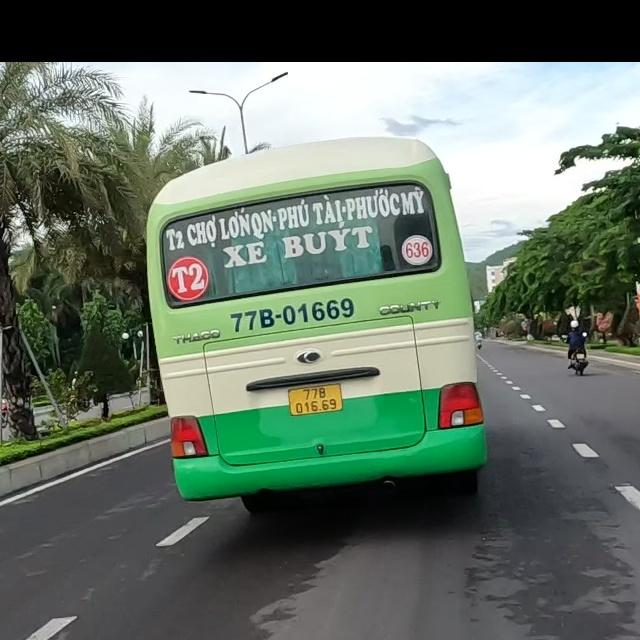license-plate: (288, 384, 343, 417)
